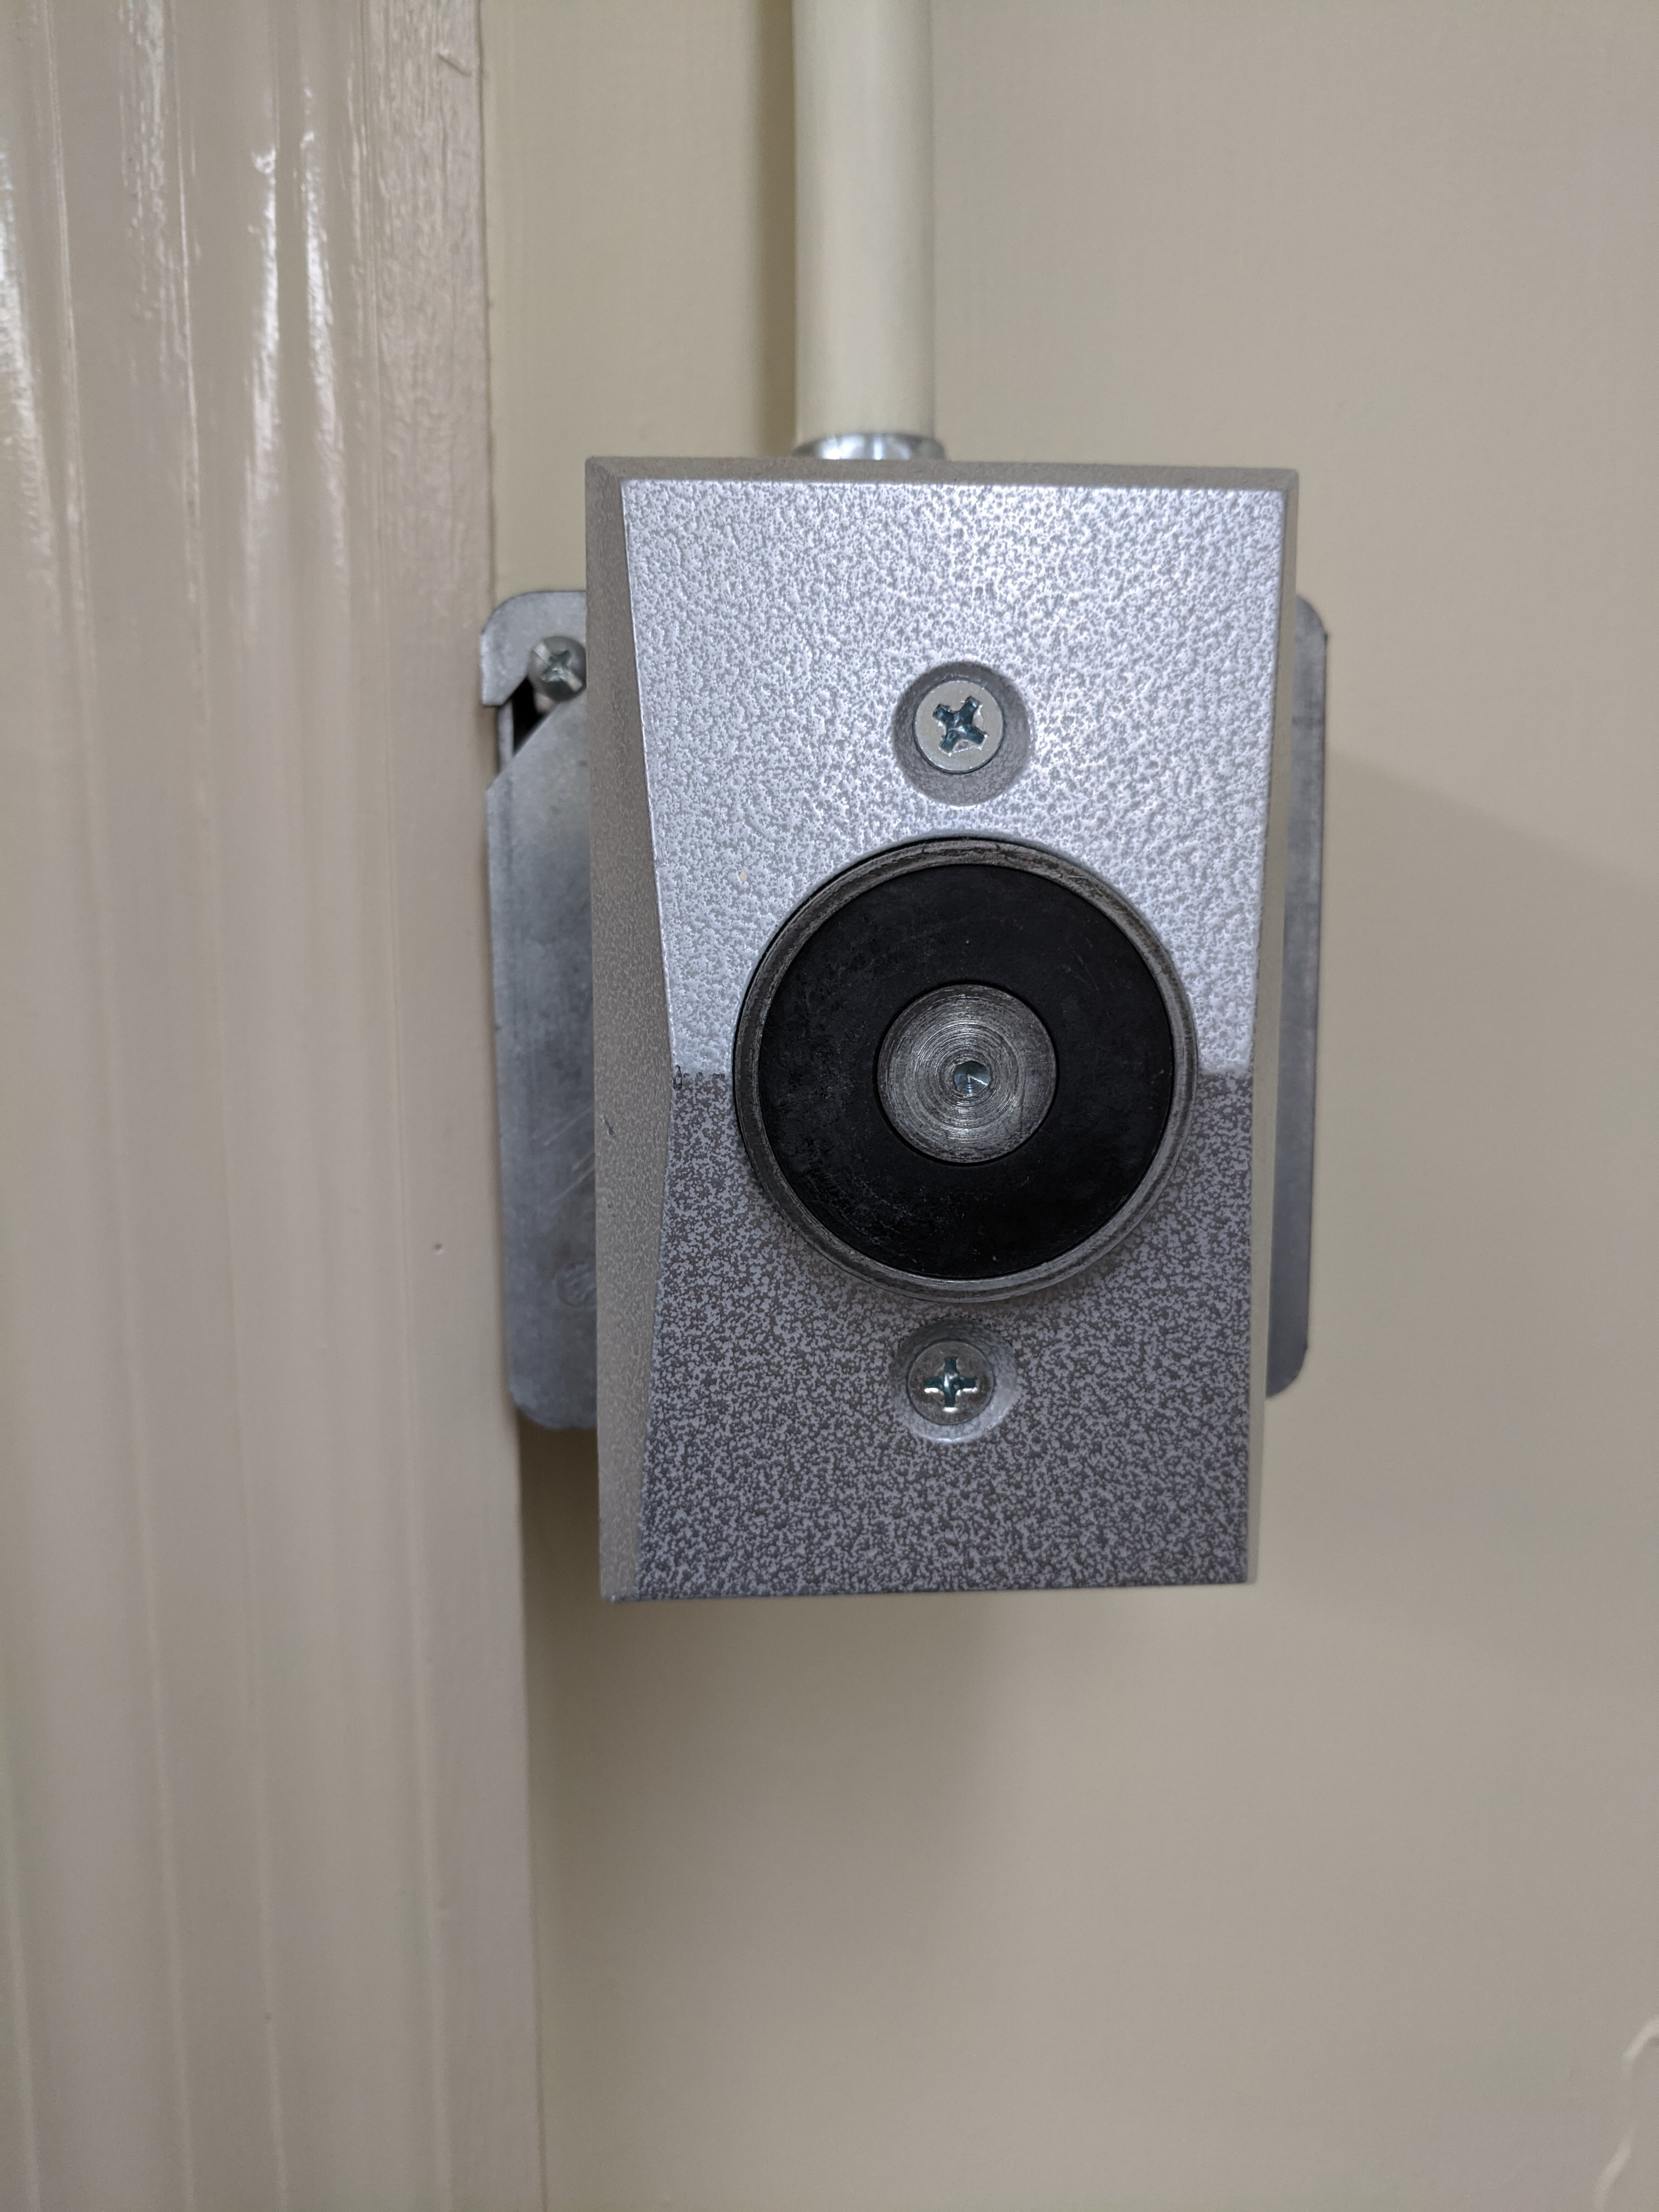cross_recessed_screw: (908, 1322, 999, 1432), (908, 664, 1004, 766), (518, 622, 582, 691)
